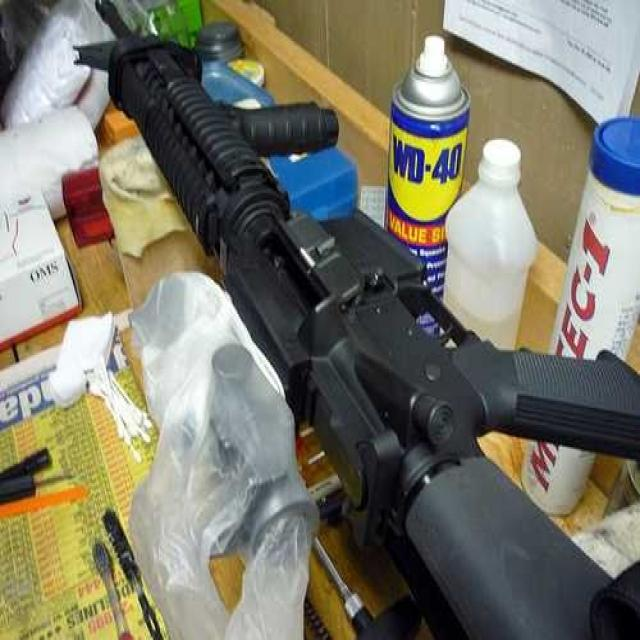heavyweapon: (70, 1, 640, 640)
